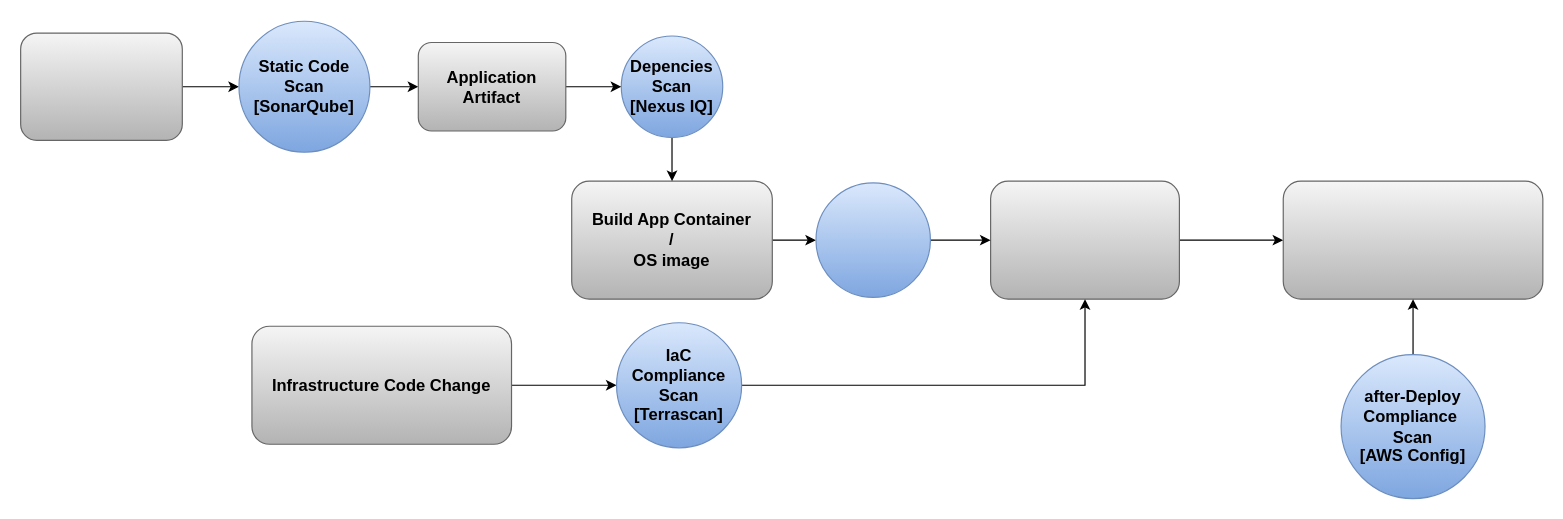
The diagram is 1563 pixels wide and 519 high, and some of its shapes have lost their labels. Each missing label, with the centre of its shape:
Application Code / OS Change: the point at 100,86
Deploy Cloud Configuration / Application to Environment: the point at 1412,239
Image Scan [Anchore]: the point at 872,239
Update Cloud Infrastructure Configuration: the point at 1084,239
